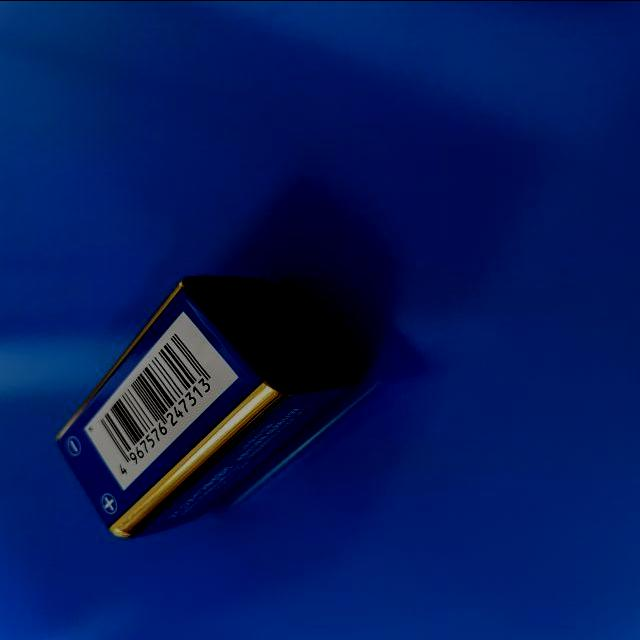9V: (57, 274, 361, 537)
